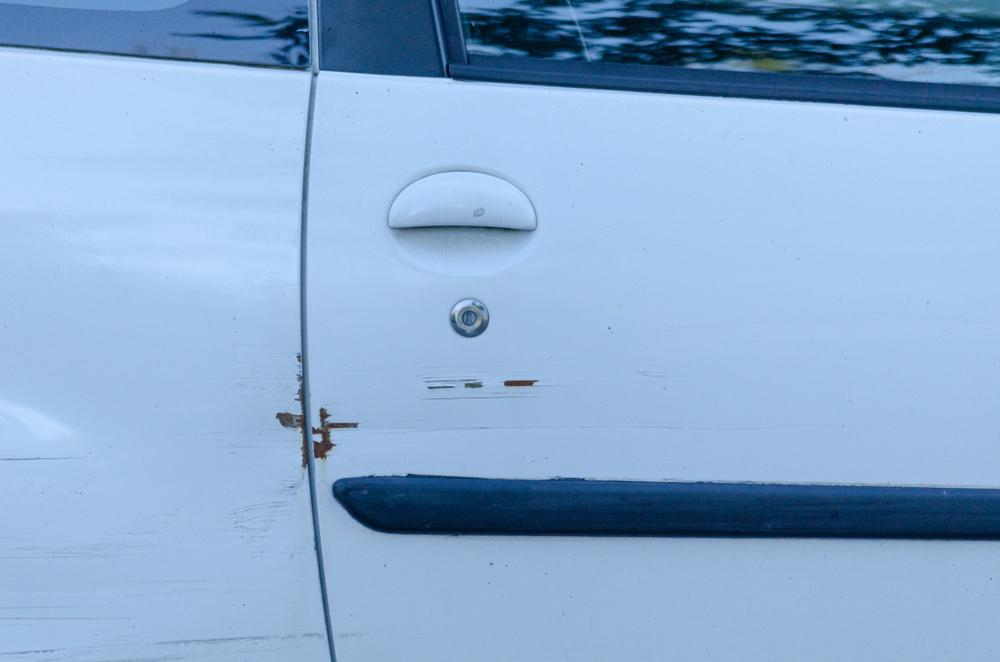scratch: (0, 355, 320, 662), (309, 367, 710, 471)
